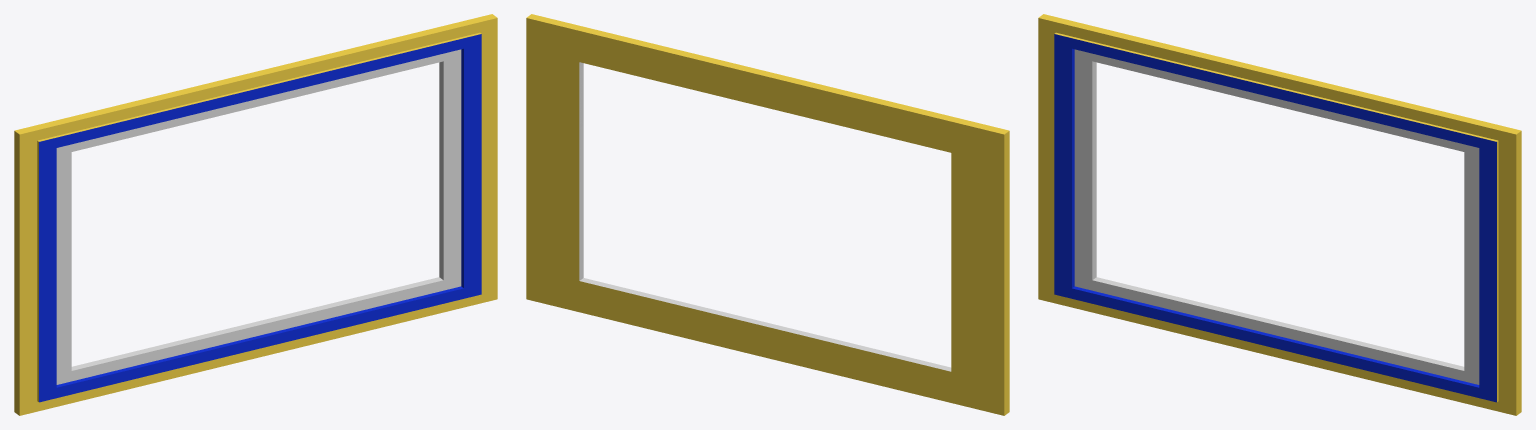
File: painting_frame.glb
3 views of the same model, side by side, from view 1: azimuth 30°, elevation 25°; view 2: azimuth 150°, elevation 25°; view 3: azimuth 330°, elevation 25° (orthographic).
Visible parts, largest first — view 1: Cube; view 2: Cube; view 3: Cube.
Boxes of the visible parts, x1,y1,x2,y2 form: Cube: (14,14,497,415); Cube: (526,14,1009,415); Cube: (1038,14,1521,415).
Bounding box in the file's own units: 1.28 × 0.72 × 0.0328.
